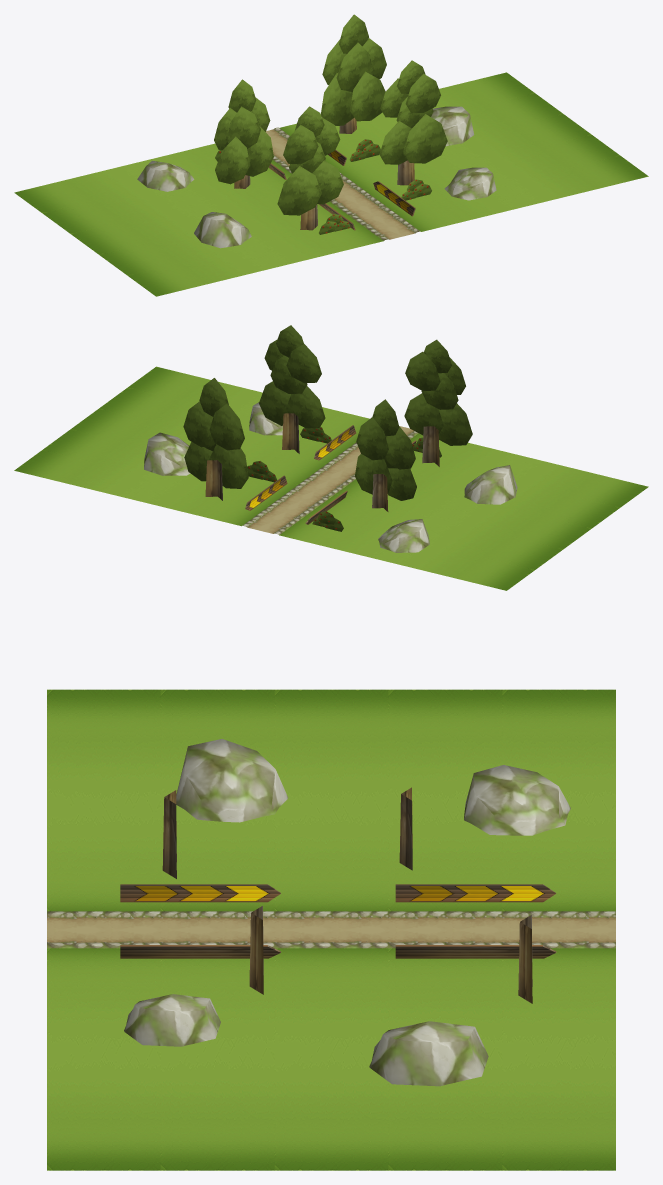
File: ForestRoad01_Short.FBX
The picture shows the model from 3 angles, top to bottom: view 1: azimuth 30°, elevation 25°; view 2: azimuth 150°, elevation 25°; view 3: azimuth 270°, elevation 25°; orthographic projection. The views are drawn at different scales.
Visible parts, largest first — view 1: Road, Tree (×4), Stone (×4), Bush (×2), Fence; view 2: Road, Tree (×4), Stone (×4), Fence (×2), Bush (×2); view 3: Road, Stone (×4), Fence (×4), Tree (×4).
Boxes of the visible parts, bbox=[...] form: Road: bbox=[14, 72, 648, 296]; Tree (×4): bbox=[214, 14, 447, 230]; Stone (×4): bbox=[137, 106, 496, 248]; Bush (×2): bbox=[349, 139, 431, 200]; Fence: bbox=[373, 181, 415, 216]; Road: bbox=[14, 366, 648, 590]; Tree (×4): bbox=[183, 325, 472, 511]; Stone (×4): bbox=[144, 402, 517, 552]; Fence (×2): bbox=[245, 425, 356, 510]; Bush (×2): bbox=[247, 461, 343, 531]; Road: bbox=[47, 689, 615, 1170]; Stone (×4): bbox=[124, 739, 570, 1086]; Fence (×4): bbox=[120, 884, 556, 958]; Tree (×4): bbox=[162, 787, 532, 1003].
Bounding box in the file's own units: 10000 × 2536 × 5000.
